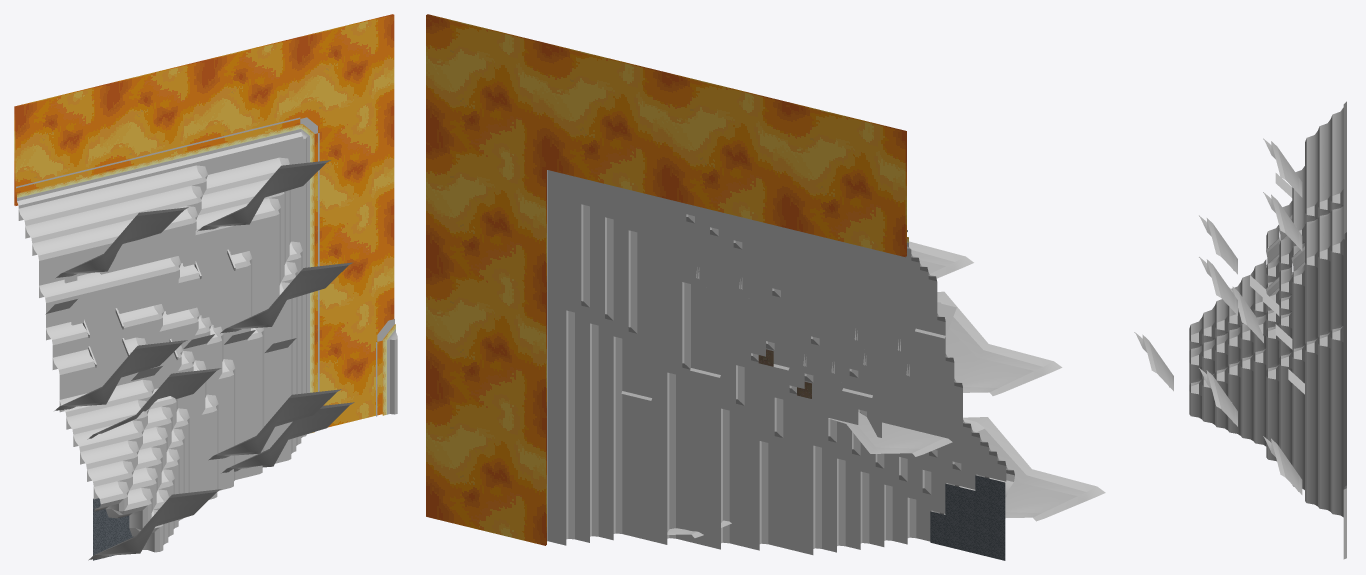
Rendered from Mount-Undara-1_03_01.obj.
The picture shows the model from 3 angles, left to right: view 1: azimuth 30°, elevation 25°; view 2: azimuth 150°, elevation 25°; view 3: azimuth 270°, elevation 25°; orthographic projection. The views are drawn at different scales.
Visible parts, largest first — view 1: map; view 2: map; view 3: map.
Boxes of the visible parts, <box> form: map: <box>14,14,397,560</box>; map: <box>426,14,1105,560</box>; map: <box>1134,101,1346,559</box>.
Bounding box in the file's own units: 35.59 × 32 × 16.9.
